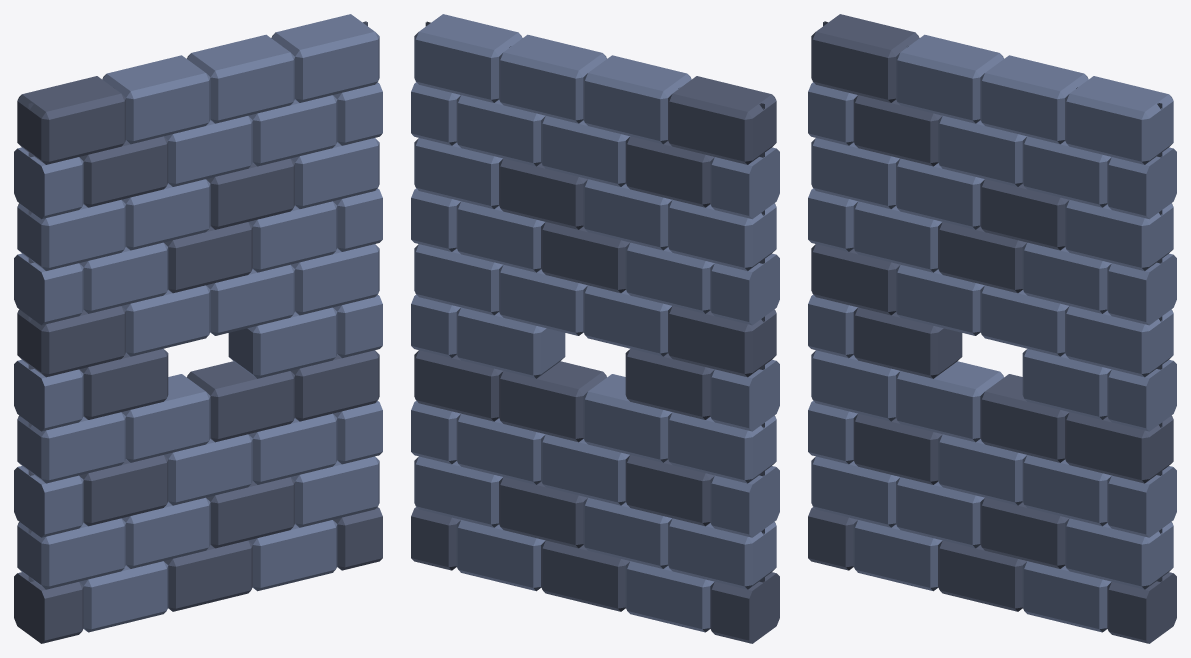
Rendered from wall_004.glb.
The picture shows the model from 3 angles, left to right: view 1: azimuth 30°, elevation 25°; view 2: azimuth 150°, elevation 25°; view 3: azimuth 330°, elevation 25°; orthographic projection.
Visible parts, largest first — view 1: wall.004; view 2: wall.004; view 3: wall.004.
Boxes of the visible parts, <box> form: wall.004: <box>14,14,382,643</box>; wall.004: <box>411,14,779,643</box>; wall.004: <box>808,14,1176,643</box>.
Bounding box in the file's own units: 2 × 3 × 0.3126.
